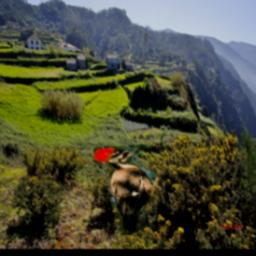Woodpecker: (94, 145, 160, 236)
